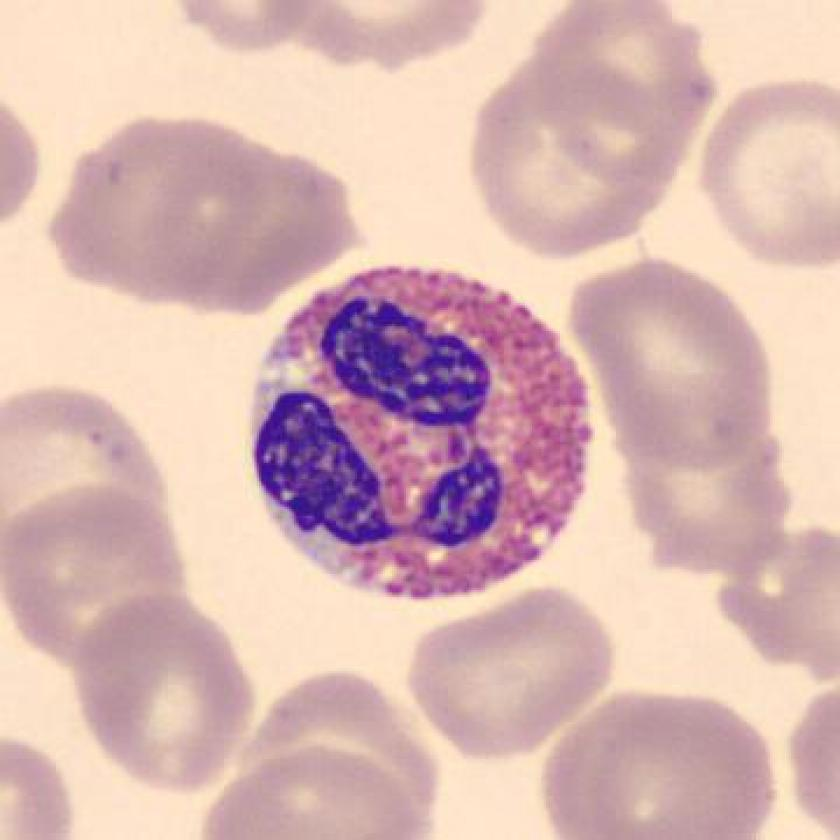eosinophil: (239, 246, 605, 626)
